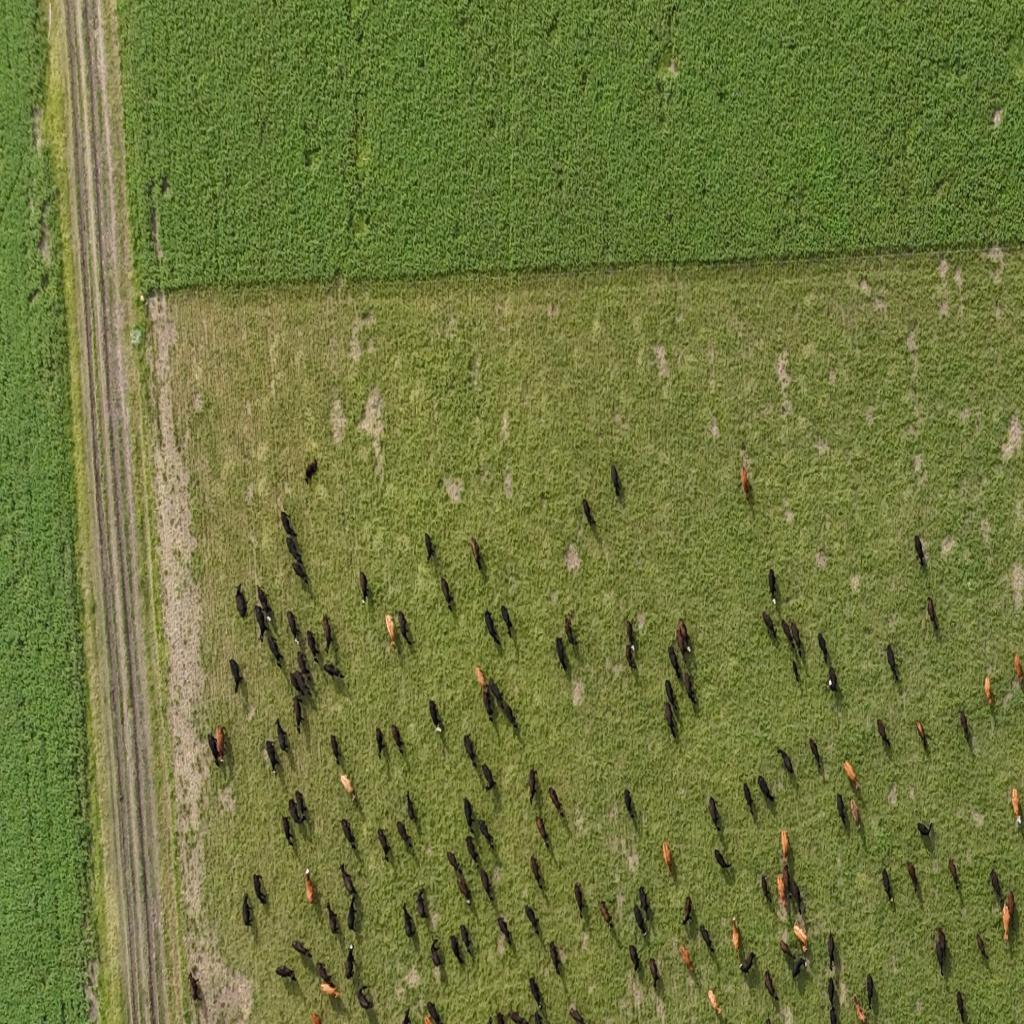cow: (488, 681, 506, 717), (842, 758, 860, 792), (316, 960, 336, 990), (885, 644, 900, 684), (548, 786, 565, 821), (477, 816, 494, 851), (663, 699, 677, 741), (266, 634, 283, 668), (524, 904, 540, 940), (778, 820, 790, 868), (683, 669, 697, 709), (340, 817, 356, 852), (484, 610, 499, 647), (463, 733, 478, 770), (677, 618, 691, 657), (500, 697, 516, 731), (480, 762, 497, 794), (290, 557, 308, 587), (397, 610, 412, 646), (564, 616, 579, 652), (480, 684, 494, 722), (276, 718, 290, 756), (790, 622, 804, 660), (340, 864, 356, 897), (496, 915, 512, 948), (935, 927, 946, 975), (455, 871, 471, 904), (279, 510, 297, 539), (926, 596, 939, 636), (1009, 784, 1022, 824), (253, 603, 266, 643), (668, 645, 682, 682), (778, 748, 794, 780), (793, 922, 809, 954), (285, 535, 302, 565), (700, 925, 715, 959), (757, 776, 774, 806), (440, 576, 454, 612), (264, 740, 278, 776), (428, 700, 442, 736), (989, 868, 1003, 904), (530, 855, 544, 891), (632, 901, 646, 937), (638, 884, 652, 920), (906, 860, 920, 896), (680, 944, 694, 980), (764, 968, 778, 1004), (708, 988, 724, 1019), (207, 732, 222, 765), (285, 610, 300, 643), (599, 900, 614, 933), (397, 819, 412, 852), (555, 636, 568, 674), (254, 872, 268, 907), (449, 930, 463, 965), (624, 788, 637, 825), (526, 767, 539, 804), (743, 782, 756, 819), (809, 737, 822, 774), (188, 970, 203, 1002), (256, 586, 272, 616), (836, 792, 848, 832), (506, 1004, 530, 1024), (294, 790, 308, 824), (535, 815, 549, 849), (478, 866, 492, 900), (322, 614, 334, 653), (327, 900, 340, 936), (549, 941, 562, 977), (708, 796, 721, 832), (463, 796, 476, 832), (446, 850, 462, 879), (276, 964, 297, 986), (376, 827, 390, 860), (1002, 900, 1013, 942), (415, 889, 429, 922), (466, 834, 480, 867), (229, 658, 242, 693), (762, 611, 777, 641), (297, 650, 312, 680), (390, 722, 404, 754), (714, 848, 730, 876), (877, 718, 891, 750), (287, 796, 303, 824), (357, 985, 374, 1011), (529, 975, 542, 1009), (791, 954, 808, 980), (783, 618, 796, 652), (322, 662, 344, 682), (582, 497, 596, 528), (235, 584, 247, 620), (470, 536, 482, 572), (960, 710, 972, 746), (738, 949, 754, 976), (500, 605, 513, 638), (648, 956, 661, 989), (430, 939, 443, 972), (281, 814, 293, 849), (403, 905, 415, 940), (976, 932, 990, 962), (460, 924, 472, 959), (882, 866, 893, 904), (793, 877, 804, 915), (916, 720, 929, 752), (290, 667, 303, 699), (384, 613, 396, 647), (914, 534, 926, 568), (628, 942, 640, 976), (818, 632, 830, 666), (320, 980, 340, 1000), (292, 940, 312, 960), (304, 868, 315, 904), (662, 841, 673, 877), (573, 882, 584, 918), (625, 620, 636, 656), (406, 791, 418, 824), (340, 772, 354, 800), (854, 995, 868, 1023), (293, 696, 303, 735), (664, 678, 677, 708), (779, 938, 794, 964), (850, 796, 861, 831), (330, 734, 342, 766), (625, 642, 637, 674), (948, 858, 960, 890), (474, 666, 488, 693), (917, 821, 934, 843), (682, 894, 693, 928), (760, 872, 771, 906), (426, 1001, 442, 1024), (741, 465, 751, 501), (242, 893, 252, 929), (344, 944, 354, 980), (347, 896, 357, 932), (299, 669, 309, 705), (827, 930, 836, 970), (777, 872, 787, 908), (424, 530, 435, 562), (956, 990, 967, 1022), (731, 914, 740, 953), (611, 463, 621, 498), (359, 569, 369, 604), (306, 630, 318, 659), (768, 568, 777, 606), (304, 458, 318, 482), (984, 674, 994, 706), (826, 667, 838, 693), (569, 1005, 586, 1023), (375, 726, 384, 759), (866, 974, 874, 1010), (828, 975, 836, 1009), (532, 1006, 544, 1024), (1018, 786, 1024, 821), (792, 658, 800, 683), (1018, 652, 1024, 684), (829, 1002, 837, 1024), (401, 1008, 411, 1024), (310, 1011, 322, 1024)
